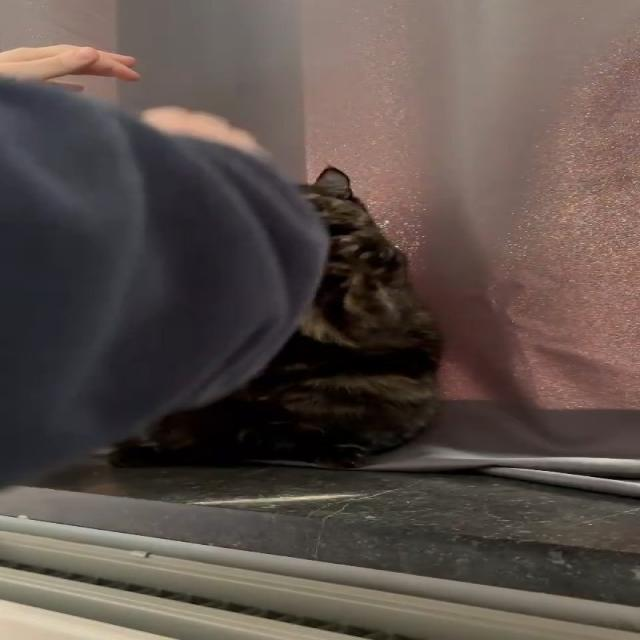authorized: (105, 164, 444, 470)
